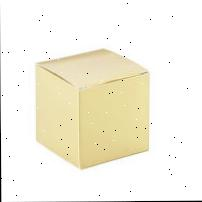cube: (32, 48, 152, 171)
